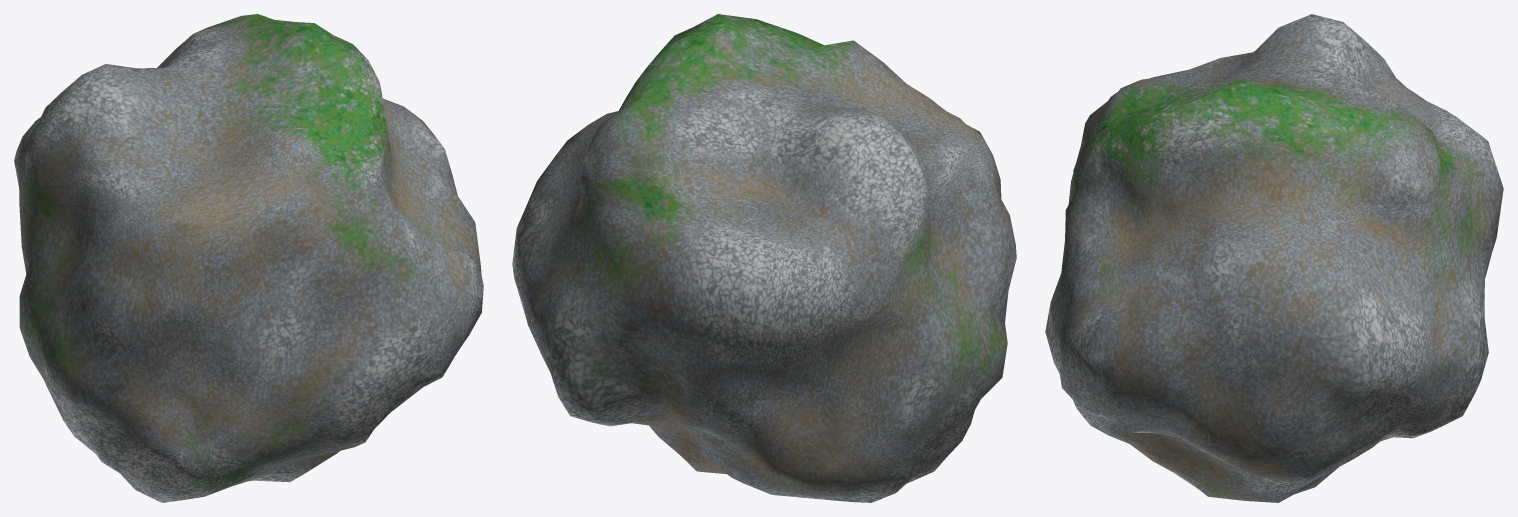
Rendered from Stone_Forest_1_LOD1.obj.
3 renders of one model, left to right at view 1: azimuth 30°, elevation 25°; view 2: azimuth 150°, elevation 25°; view 3: azimuth 270°, elevation 25°, orthographic. The views are drawn at different scales.
Parts seen in each view (by area): view 1: Stone_F_1_LOD1; view 2: Stone_F_1_LOD1; view 3: Stone_F_1_LOD1.
Part boxes in pixels (bbox=[...]): Stone_F_1_LOD1: bbox=[14, 14, 483, 502]; Stone_F_1_LOD1: bbox=[512, 14, 1016, 502]; Stone_F_1_LOD1: bbox=[1045, 14, 1503, 502].
Size of the model in its own units: 190 by 186 by 179.
1 material, 1 textured.
